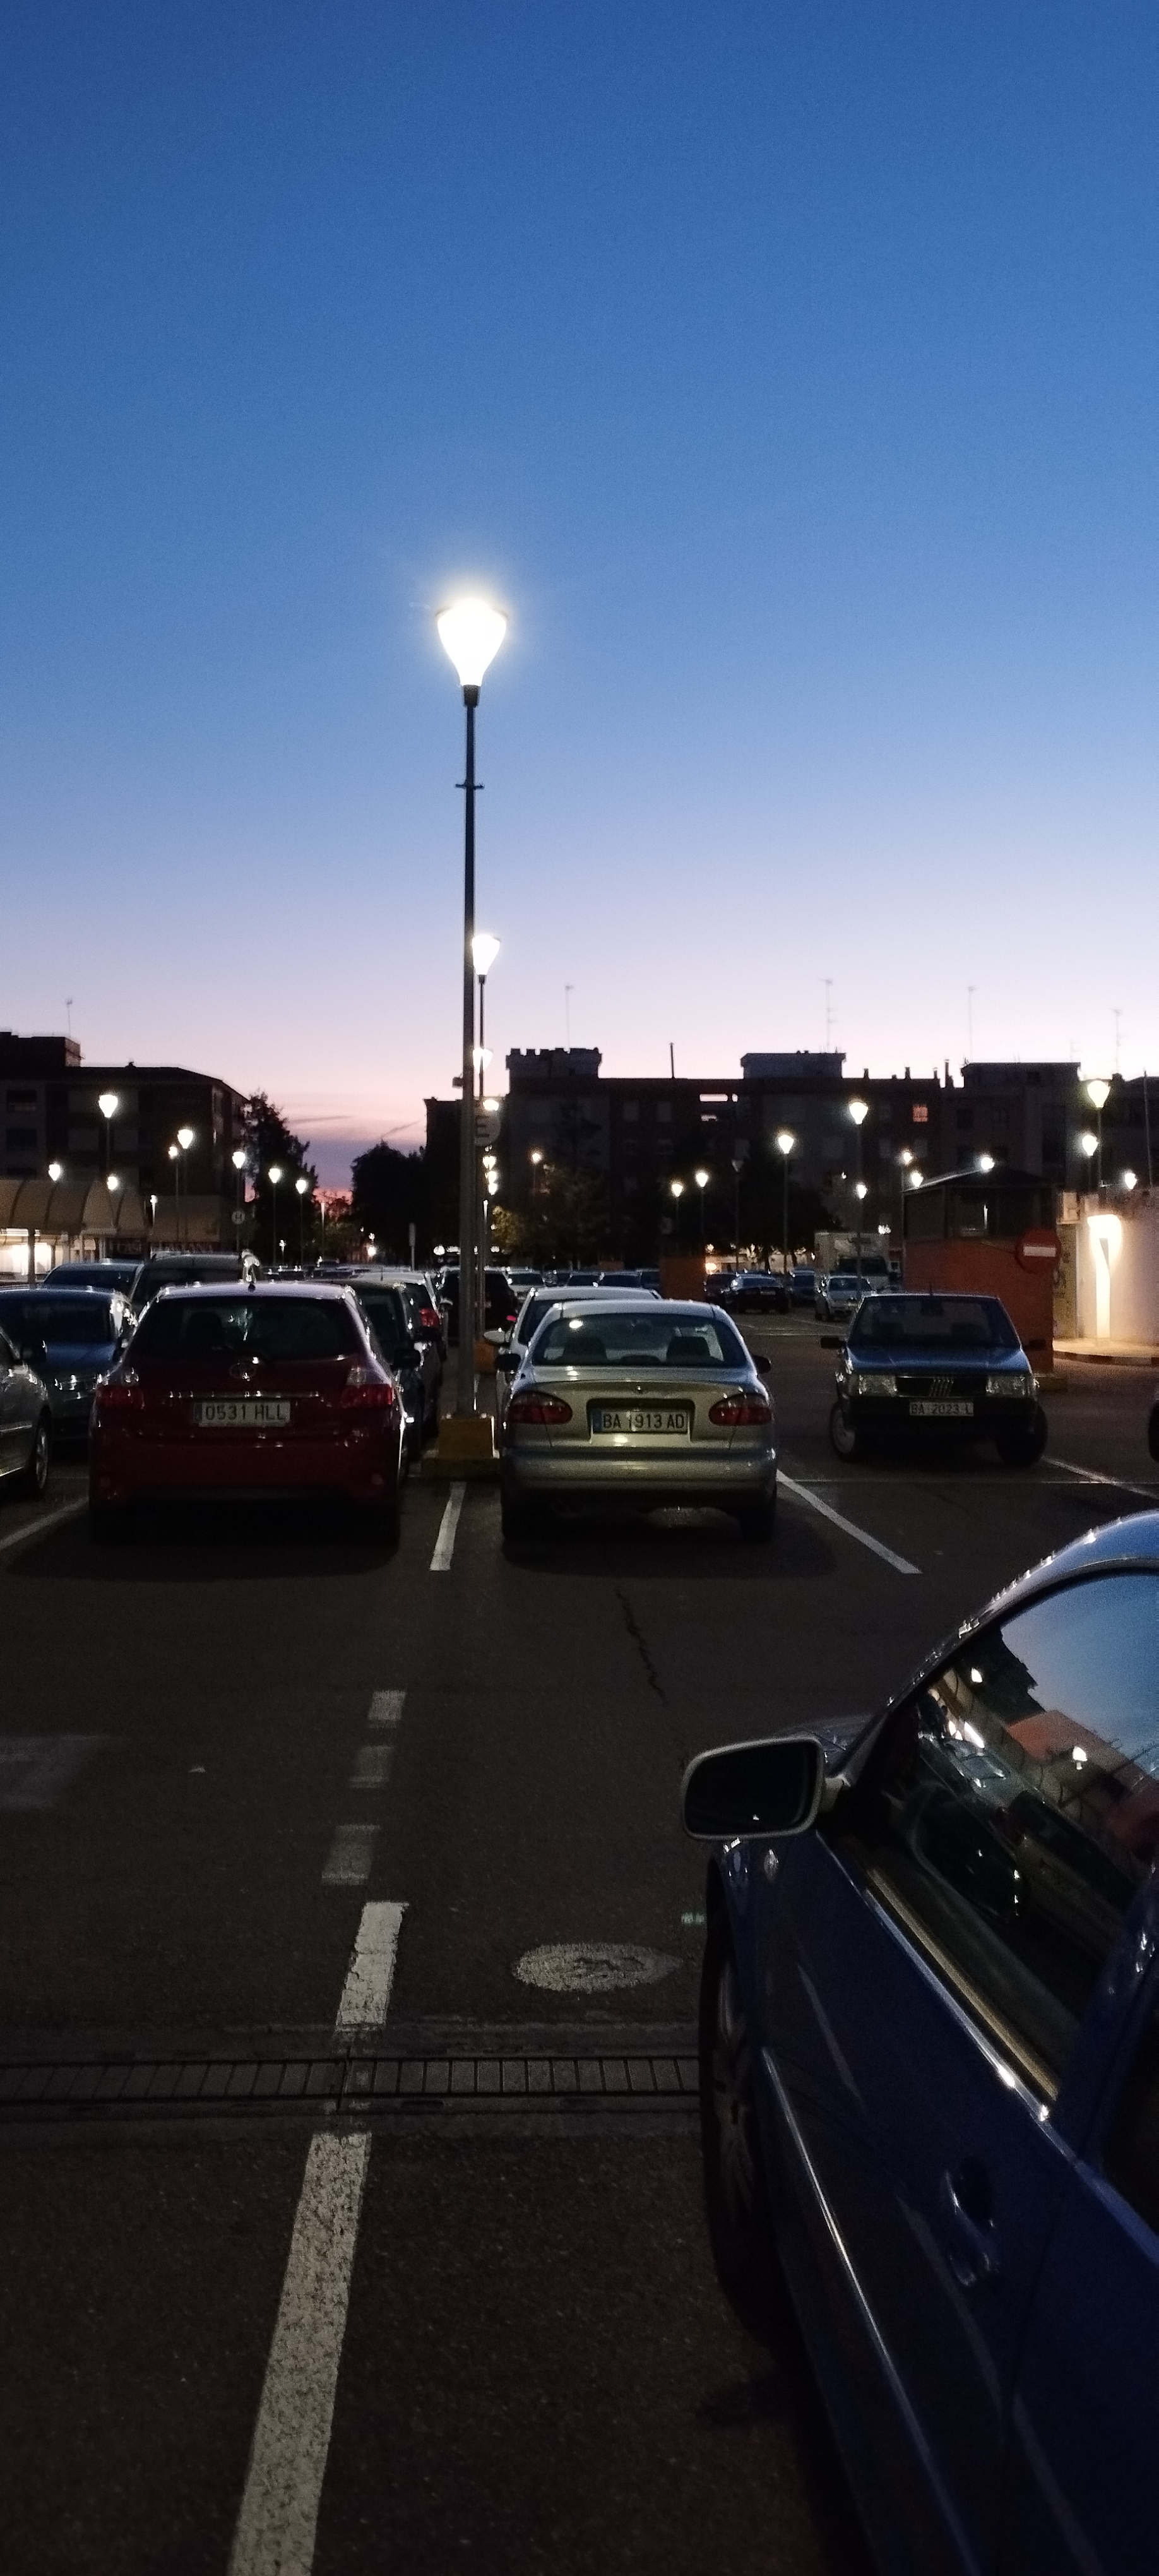Car: (89, 1282, 408, 1553), (499, 1298, 778, 1554), (826, 1289, 1048, 1467)
Plate: (592, 1408, 687, 1434), (193, 1403, 290, 1425), (908, 1402, 975, 1417)
